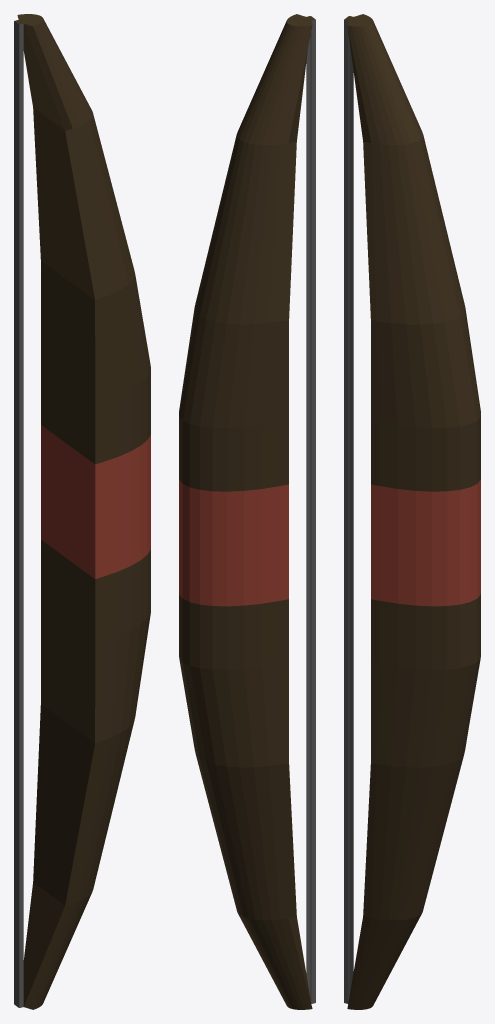
File: 弓軽量版.fbx
3 views of the same model, side by side, from view 1: azimuth 30°, elevation 25°; view 2: azimuth 210°, elevation 25°; view 3: azimuth 330°, elevation 25° (orthographic).
Parts seen in each view (by area): view 1: 円柱; view 2: 円柱; view 3: 円柱.
Boxes of the visible parts, x1,y1,x2,y2 form: 円柱: (14,14,150,1009); 円柱: (179,14,315,1009); 円柱: (344,14,480,1009).
Bounding box in the file's own units: 133 × 960 × 95.95.
